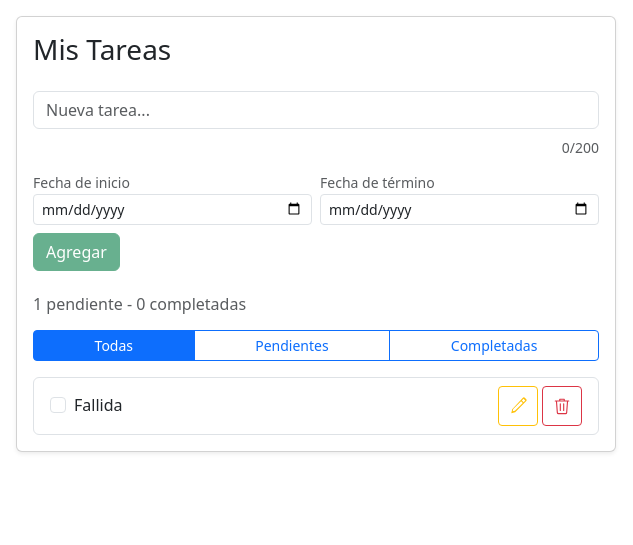
does not show celebratory feedback when completing fails and rolls back
What coordinates should you click on to do the following:
click the checkbox labelled "Fallida"
I would click on:
 (58, 405)
Its box is [50,397,66,413].
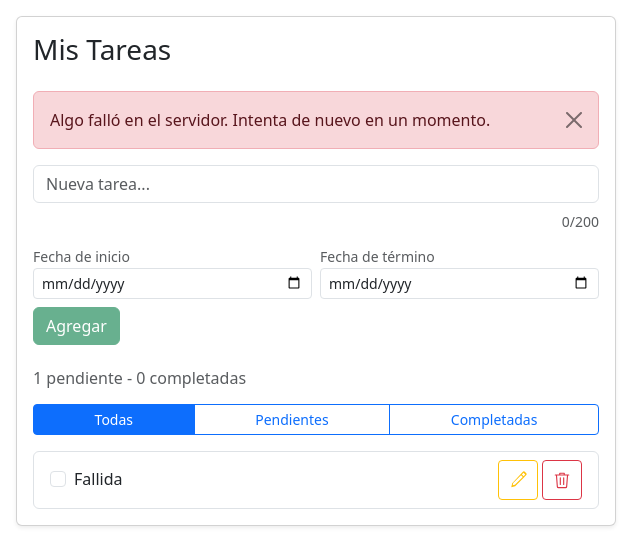
Expected: the text "Algo falló en el servidor. Intenta de nuevo en un momento." is shown, [33,91,599,149]
